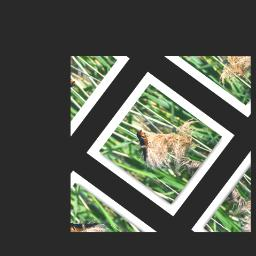Swallow: (123, 126, 163, 166)
